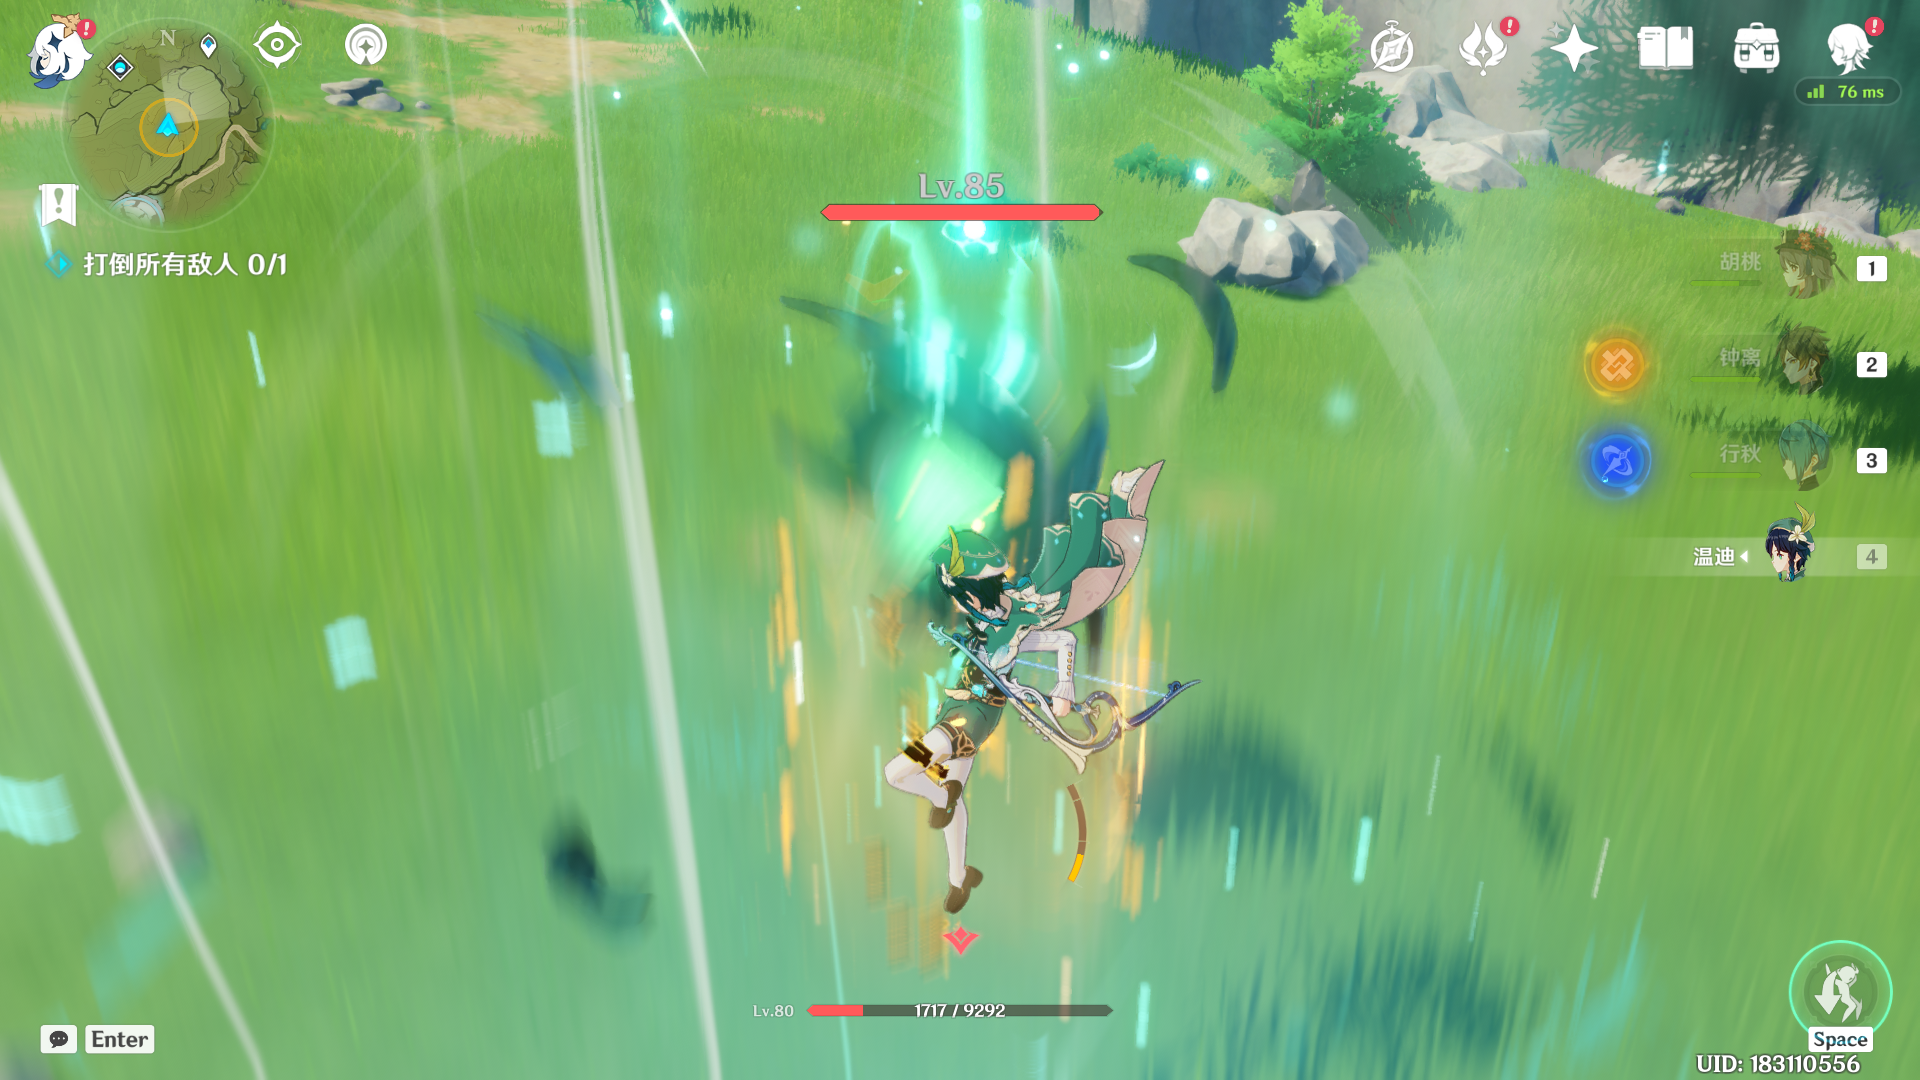character: (800, 463, 1172, 939)
